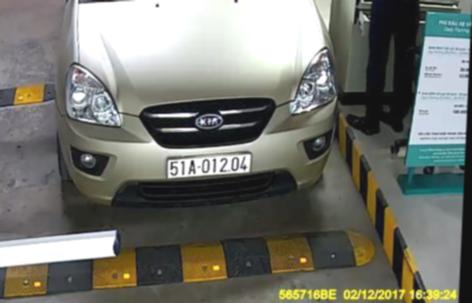License_Plate: (163, 151, 257, 181)
